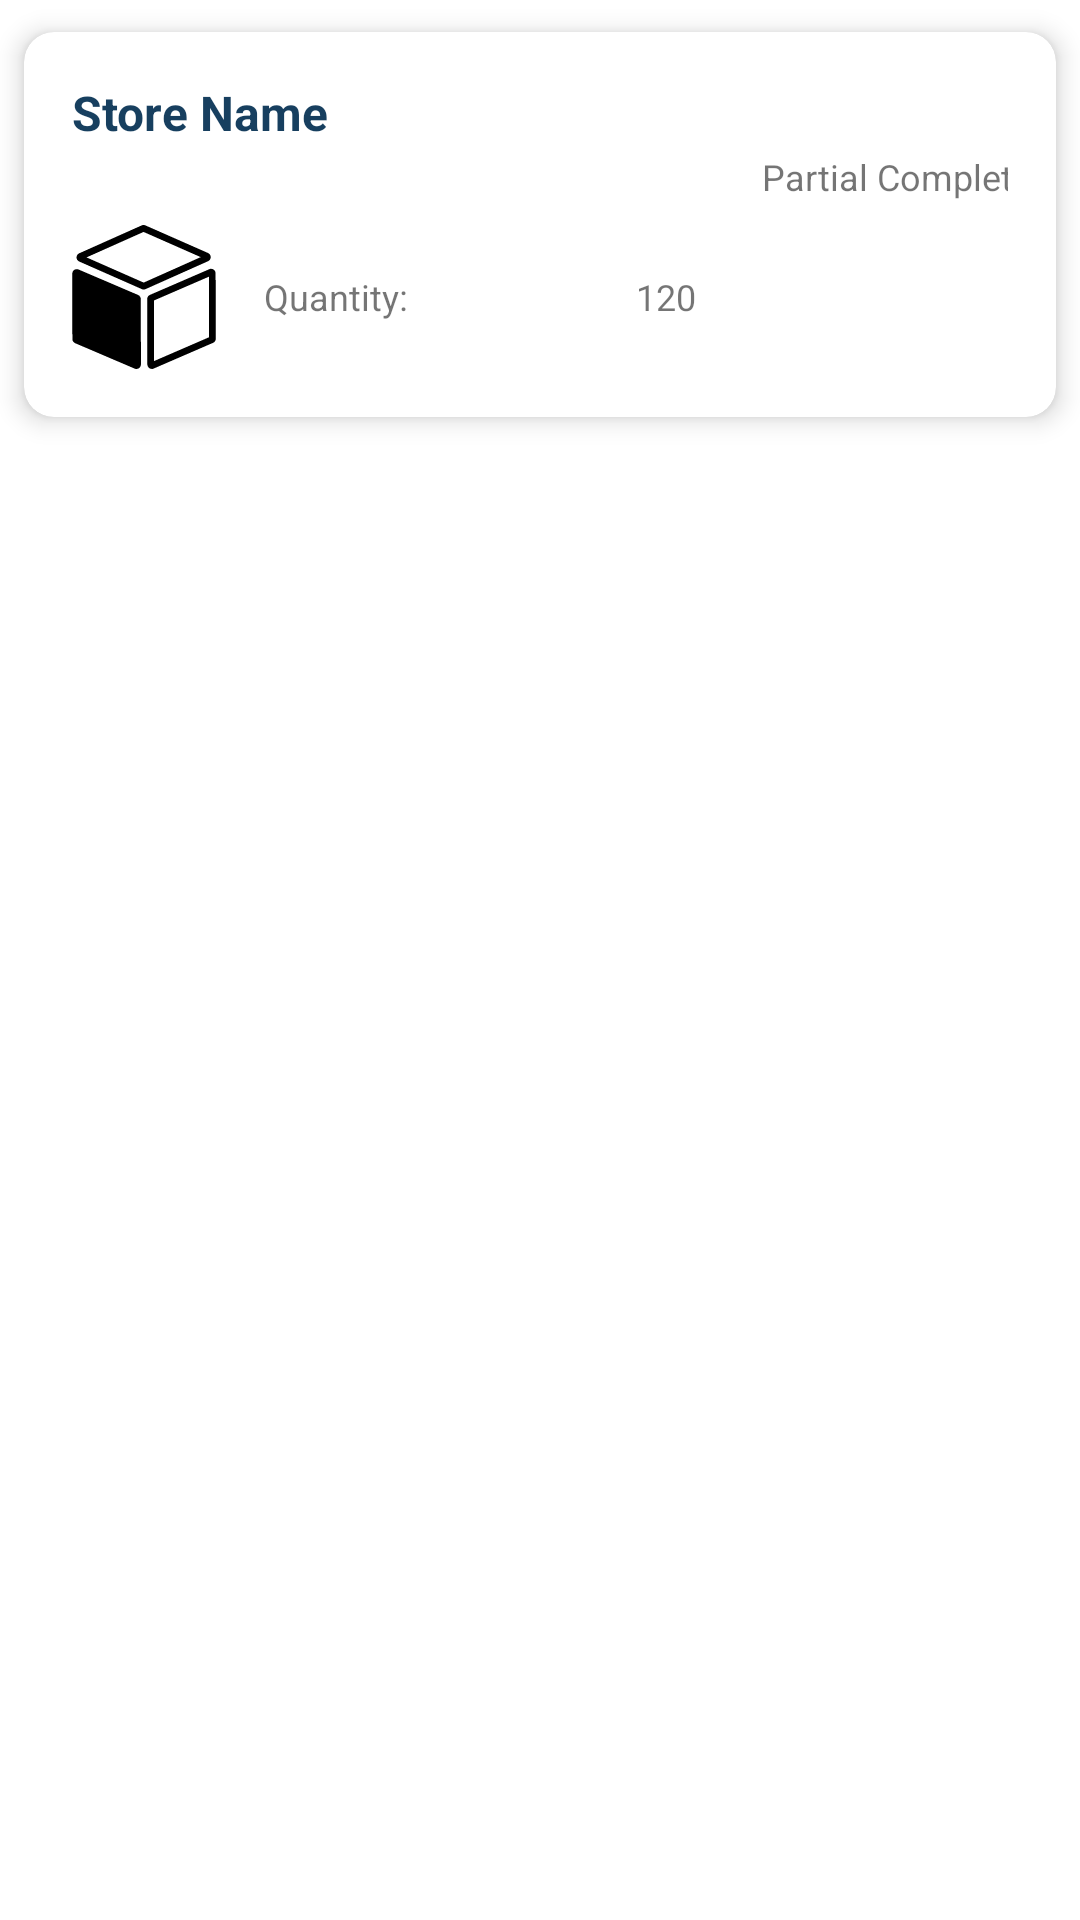

Icon click points for this 1080 x 1920 phone screenshot, format [x,y]:
crate: [144,297]
